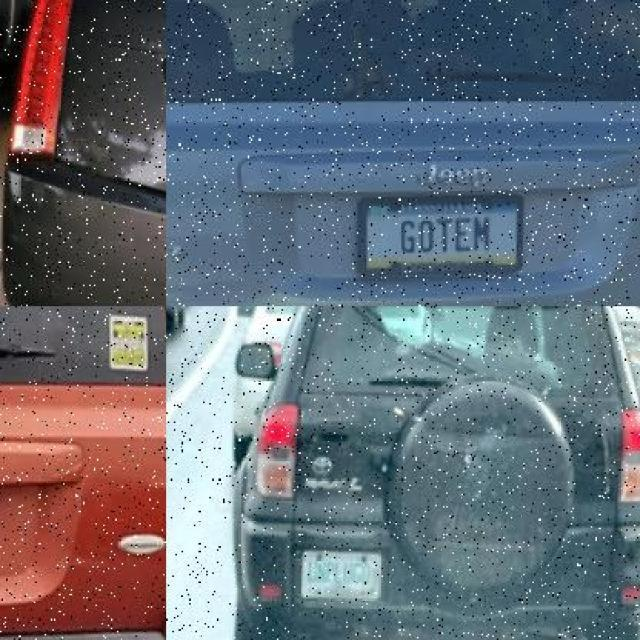LicensePlate: (352, 200, 522, 279), (295, 552, 379, 604)
